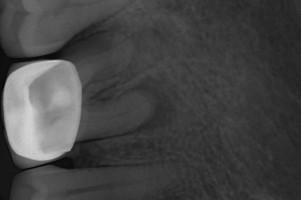Furcation Involvement: (130, 75, 176, 131)
